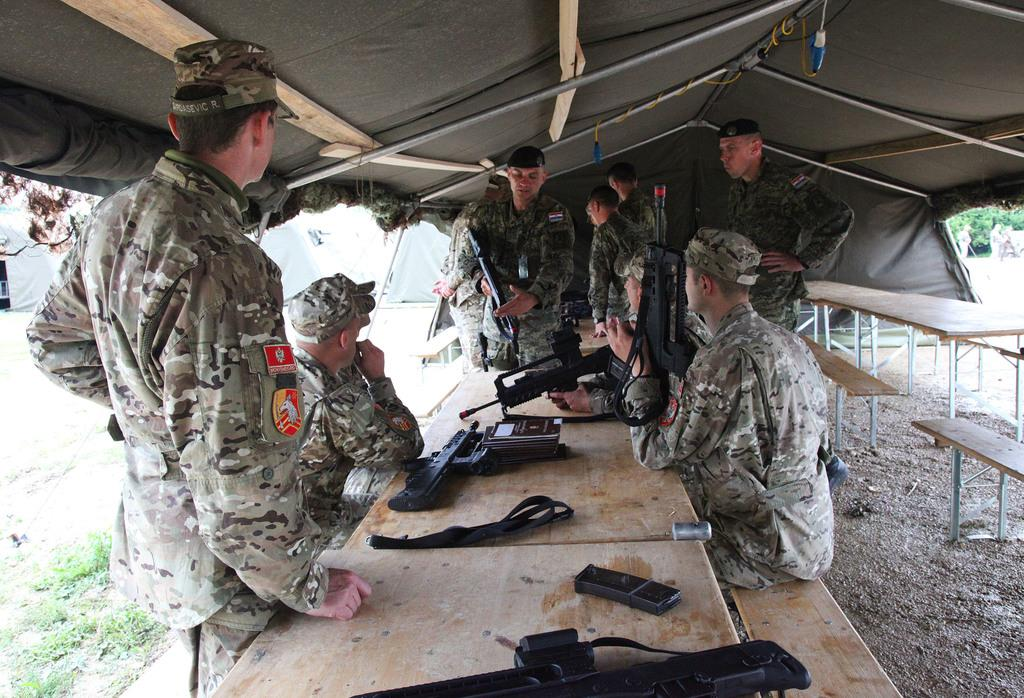Rifle: (350, 628, 813, 697), (458, 309, 625, 421), (388, 420, 570, 514), (636, 186, 703, 418), (464, 224, 516, 337)
